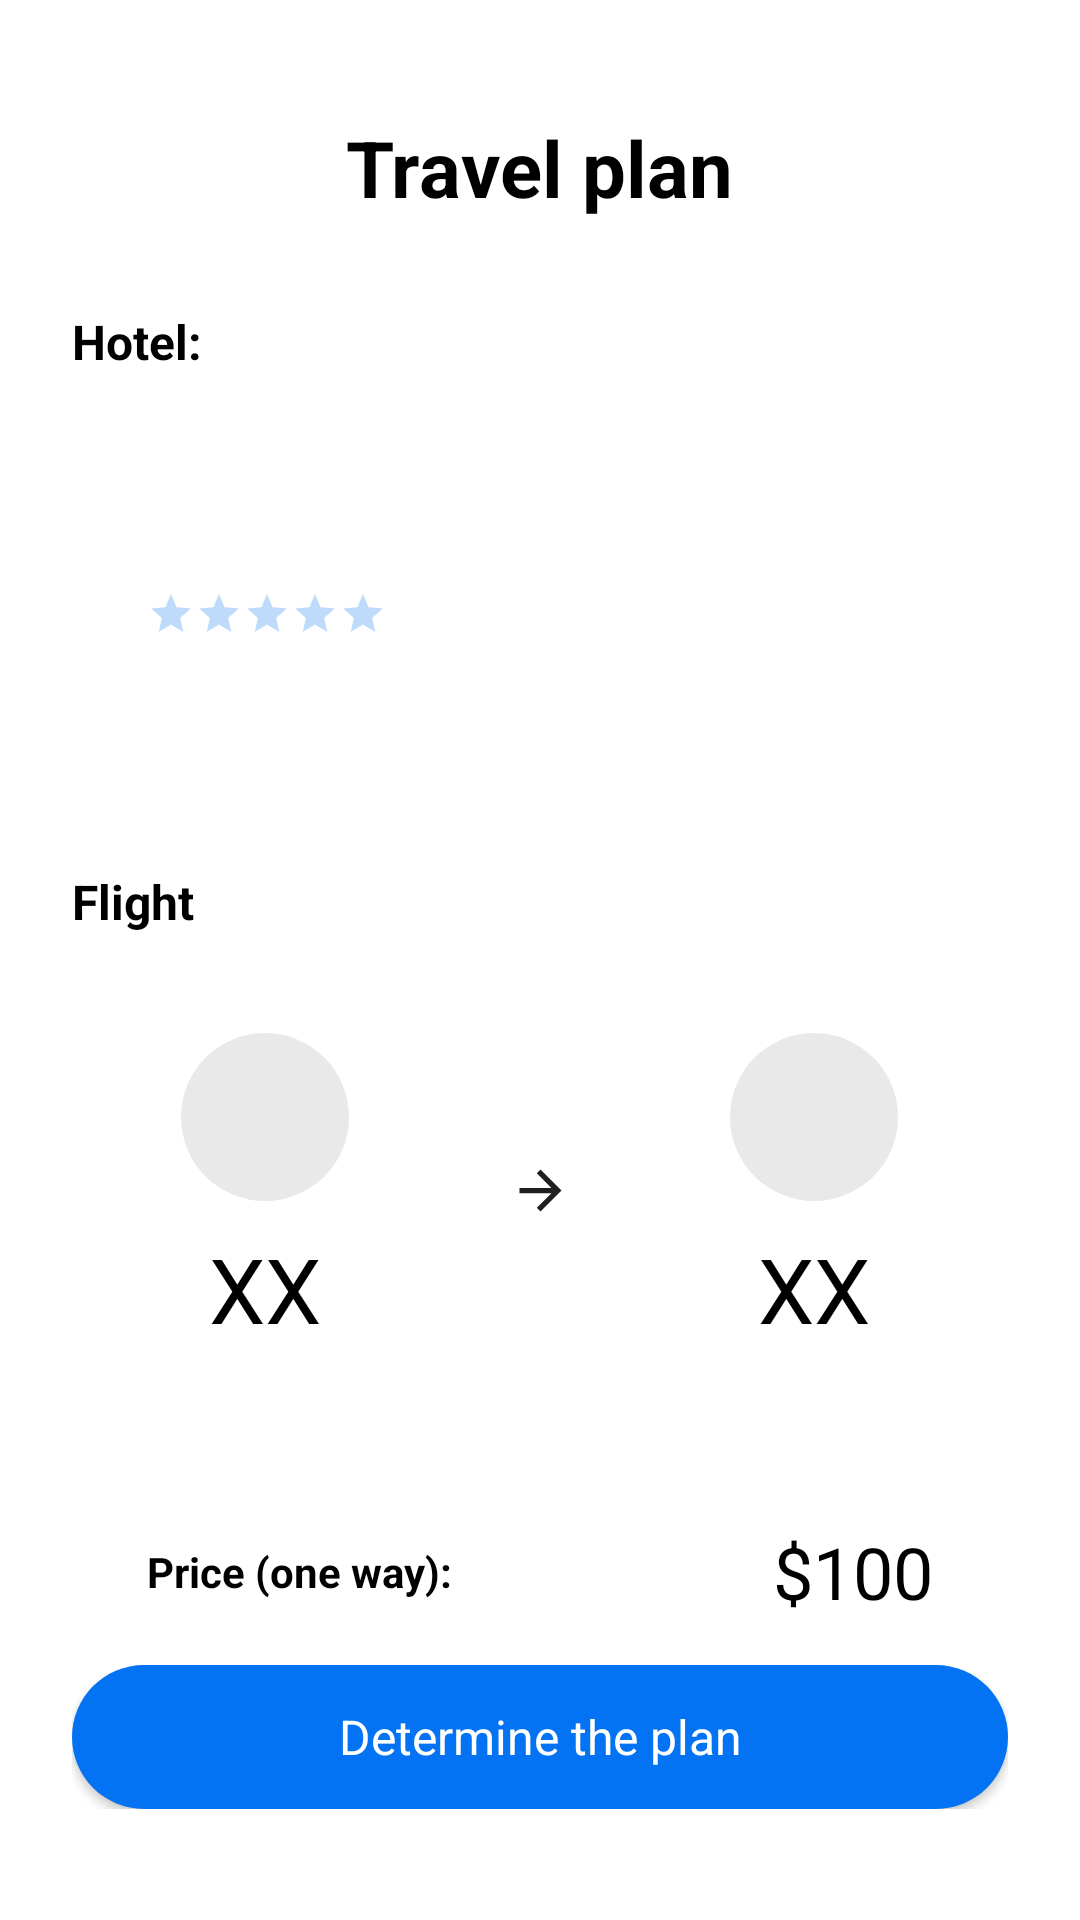

Icon bounding boxes for this 1080x1920 phone screenshot, format (x1=x1, y1=y1, x2=x2, y2=y2):
arrow forward: (x1=519, y1=1169, x2=562, y2=1212)
